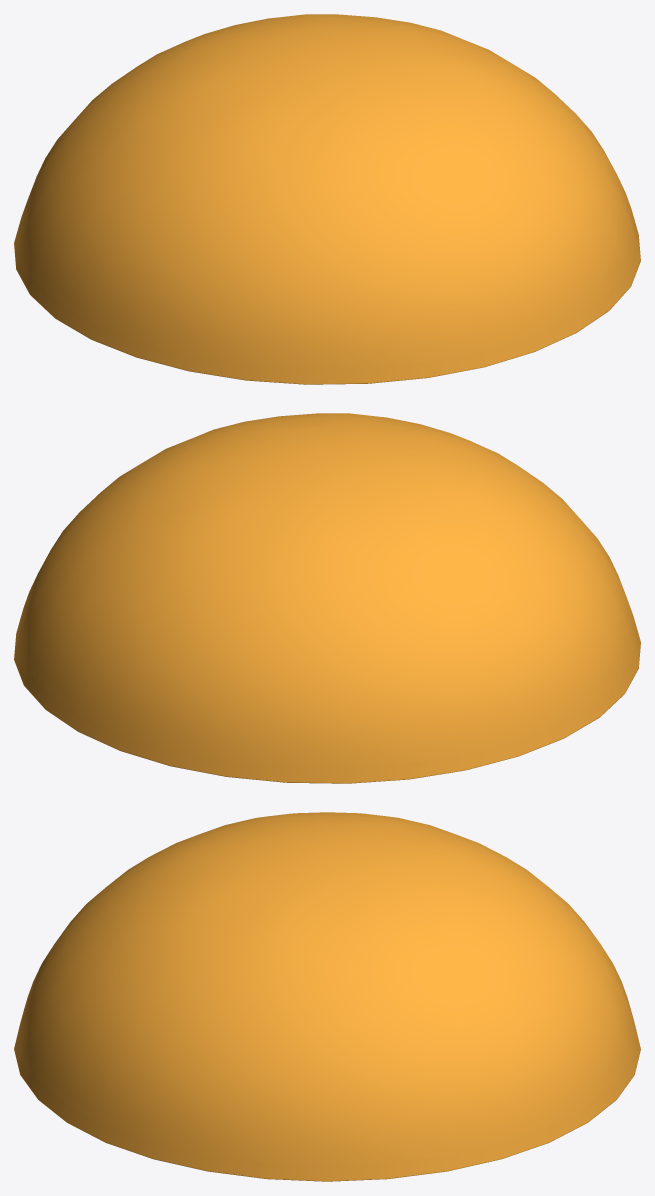
The model's file is Bun_Top.fbx.
3 views of the same model, one above another, from view 1: azimuth 30°, elevation 25°; view 2: azimuth 150°, elevation 25°; view 3: azimuth 270°, elevation 25° (orthographic).
Visible parts, largest first — view 1: Bun_Top; view 2: Bun_Top; view 3: Bun_Top.
Part boxes in pixels (x1,y1,x2,y2): Bun_Top: [14, 14, 640, 384]; Bun_Top: [14, 413, 640, 783]; Bun_Top: [14, 812, 640, 1181].
Size of the model in its own units: 1160 by 407 by 1160.
